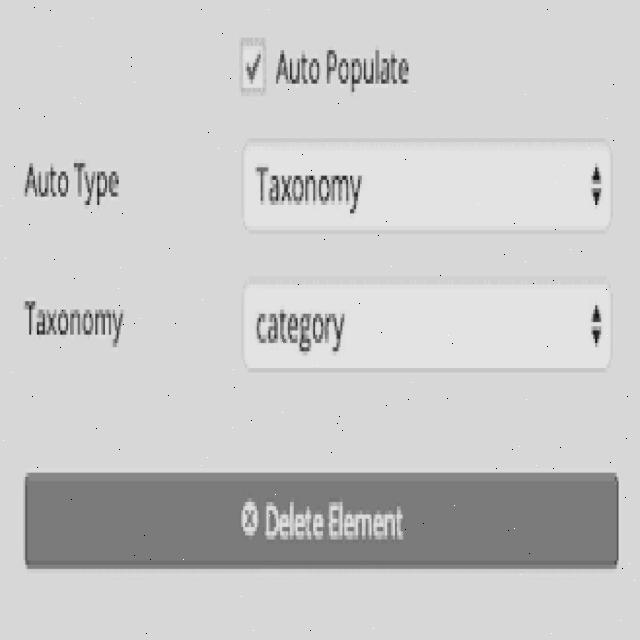button: (25, 472, 618, 566)
checkbox: (240, 39, 266, 94)
label: (272, 40, 423, 101), (17, 290, 138, 354), (15, 156, 130, 214)
upDown: (243, 137, 609, 232), (243, 278, 612, 371)
